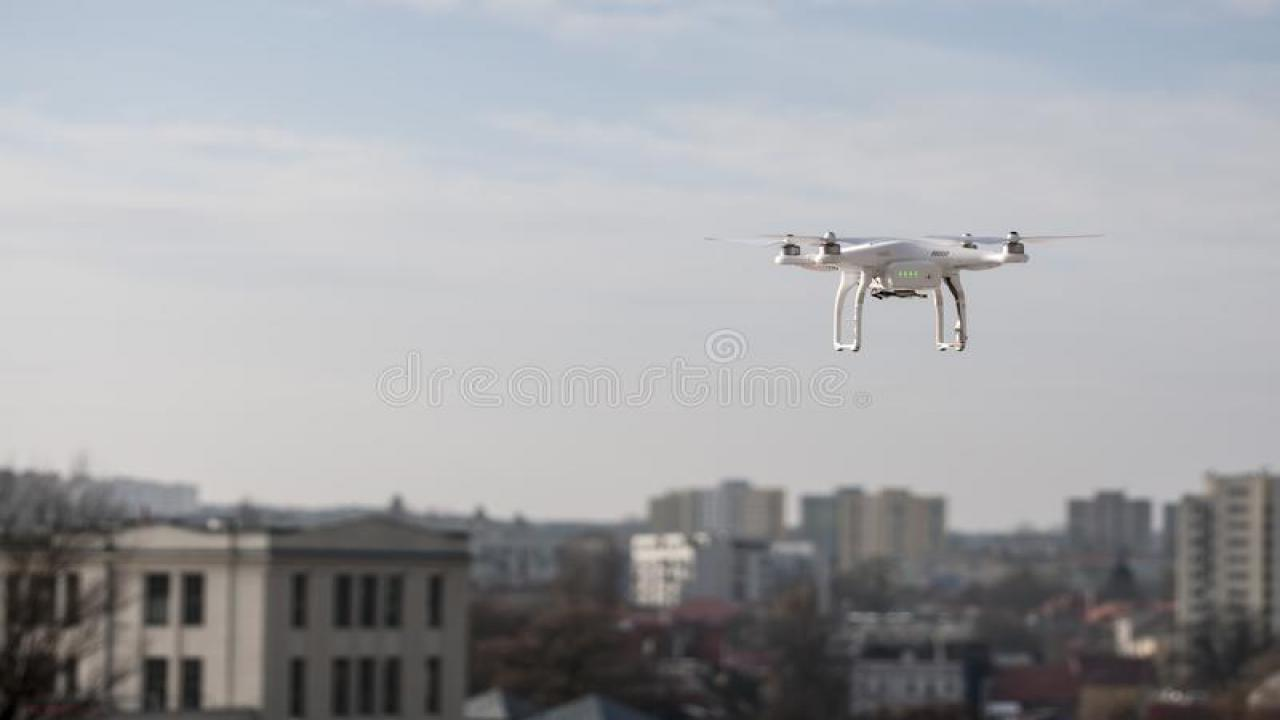Drone: (684, 205, 1126, 371)
